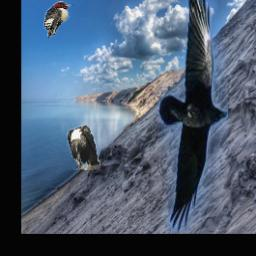Crow: (158, 0, 229, 233), (68, 124, 101, 172)
Woodpecker: (44, 2, 74, 39)
